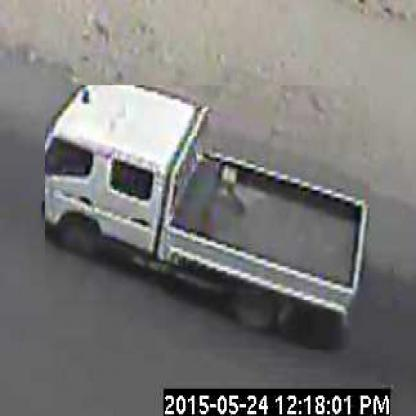truck: (46, 86, 372, 352)
